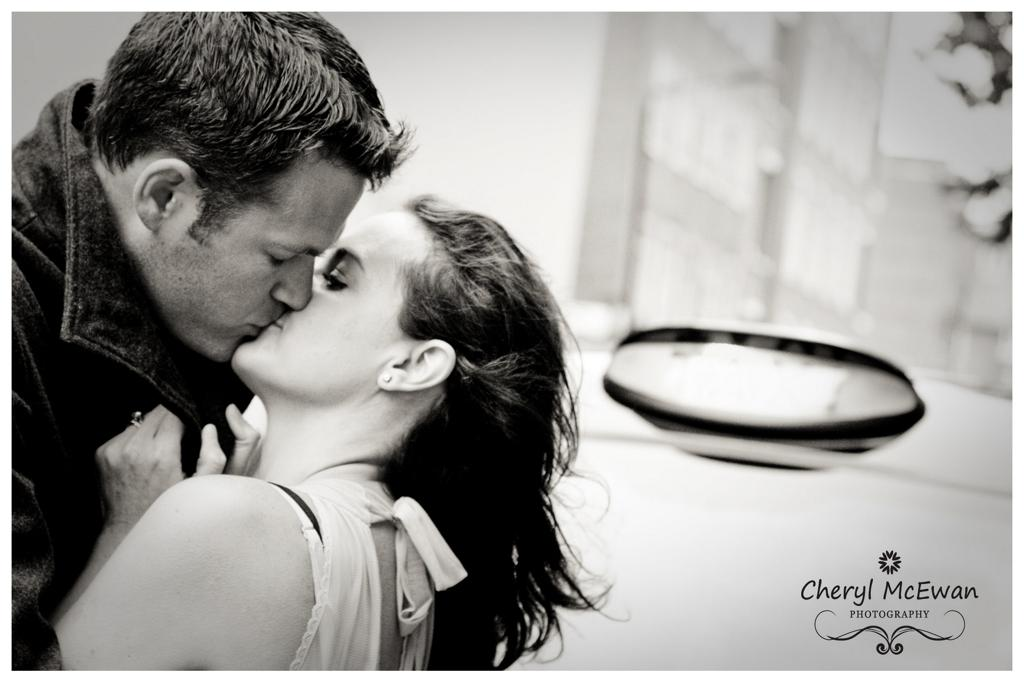face: (182, 160, 362, 362), (232, 212, 440, 380)
